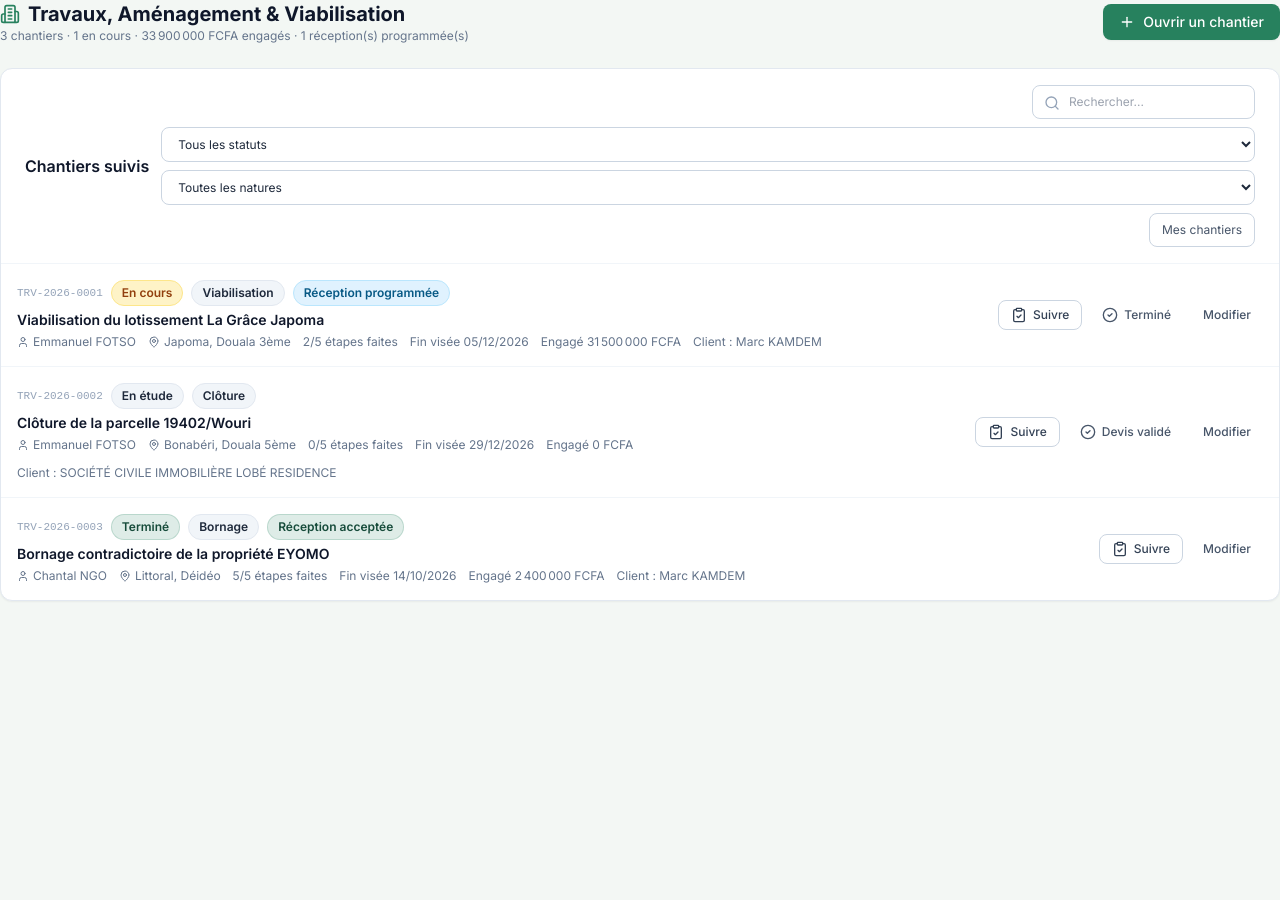
Test case: ProjectsPage en mode démo › affiche les chantiers locaux et leur canevas d'étapes
Expected: the text "TRV-2026-0001" is shown, [17, 285, 103, 301]
Expected: the text "Viabilisation du lotissement La Grâce Japoma" is shown, [17, 311, 324, 328]
Click the 1st button "Suivre" at {"x": 1040, "y": 315}, box [998, 300, 1082, 330]
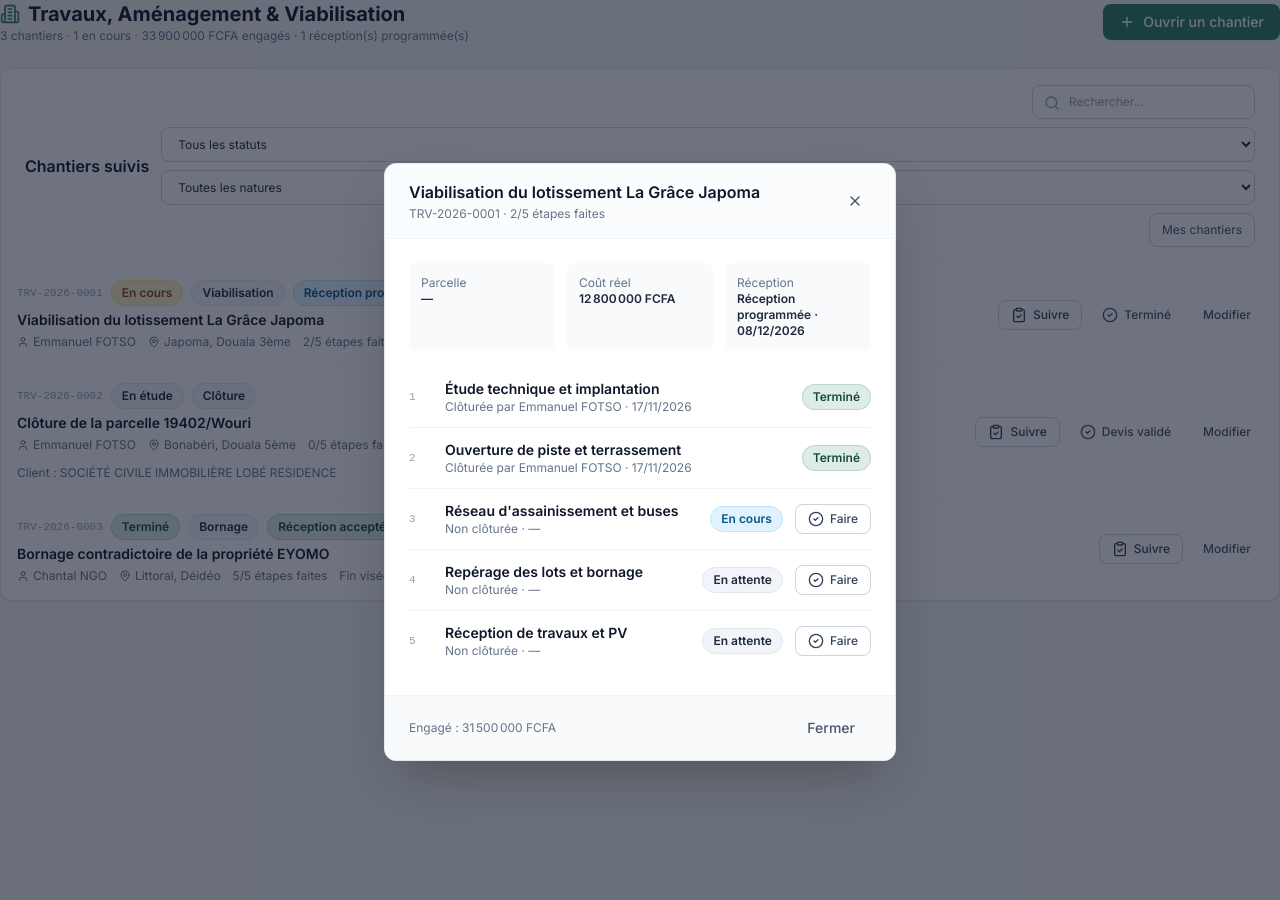
Expected: the text "Ouverture de piste et terrassement" is shown, [445, 441, 681, 458]
Expected: the text "Réception de travaux et PV" is shown, [445, 624, 628, 641]
